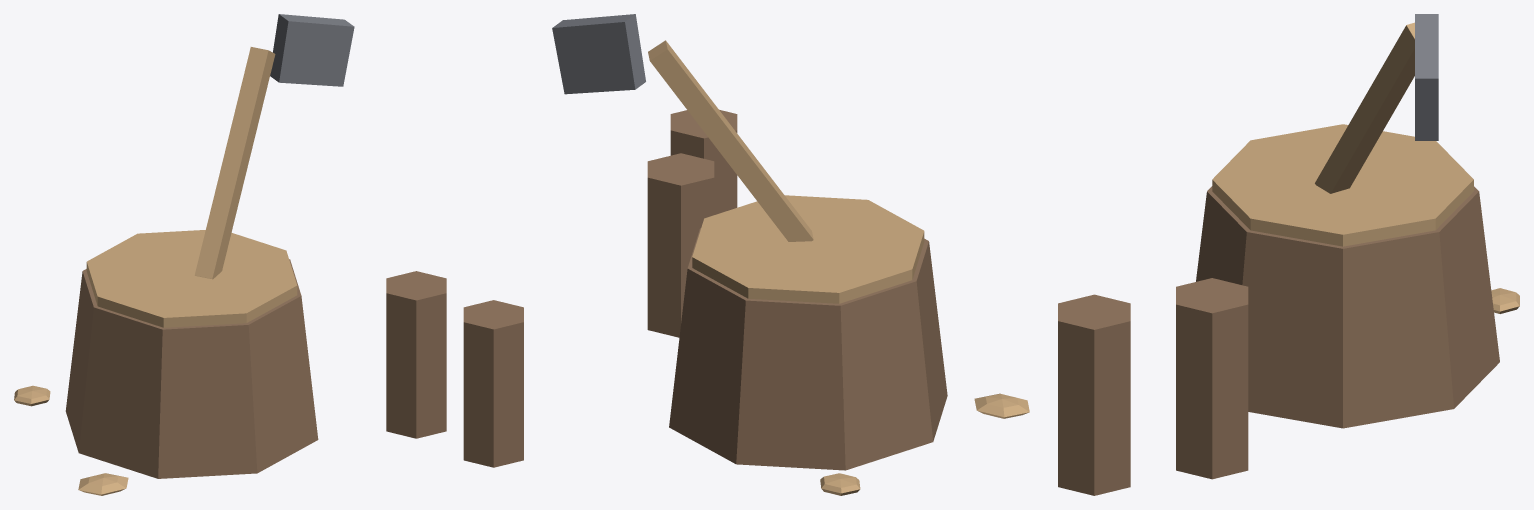
File: stump-with-axe.glb
3 renders of one model, left to right at view 1: azimuth 30°, elevation 25°; view 2: azimuth 150°, elevation 25°; view 3: azimuth 270°, elevation 25°, orthographic. The views are drawn at different scales.
Visible parts, largest first — view 1: stump-with-axe; view 2: stump-with-axe; view 3: stump-with-axe.
Part boxes in pixels (x1=…): stump-with-axe: x1=14, y1=14, x2=523, y2=495; stump-with-axe: x1=552, y1=14, x2=1029, y2=495; stump-with-axe: x1=1058, y1=14, x2=1519, y2=495.
Size of the model in its own units: 2.04 by 1.78 by 1.76.
